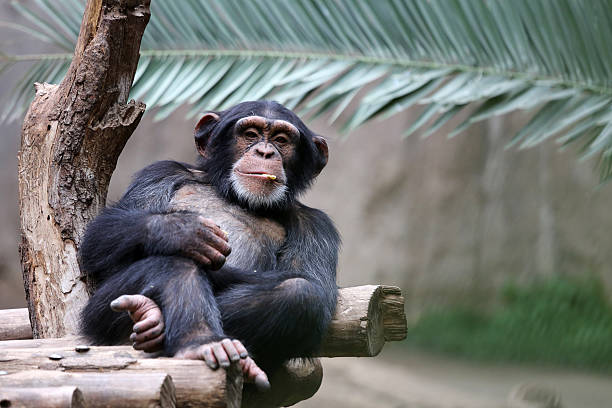chimpanzee: (193, 85, 351, 228)
